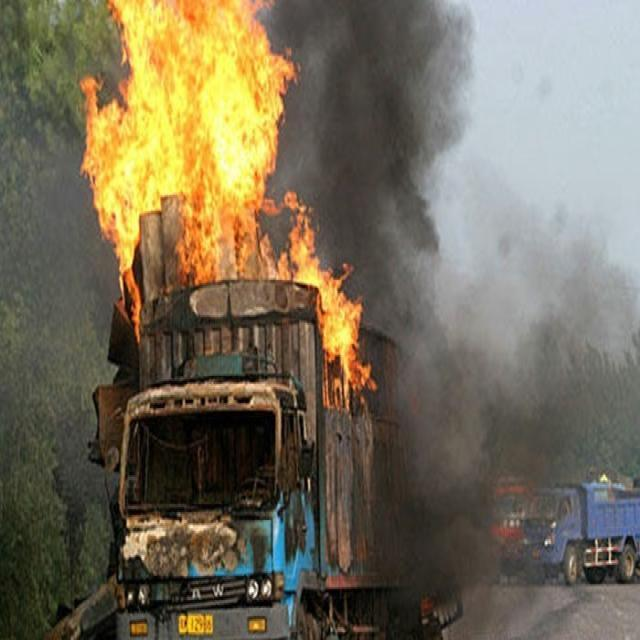Fire: (80, 1, 377, 406)
Smoke: (267, 1, 630, 588)
